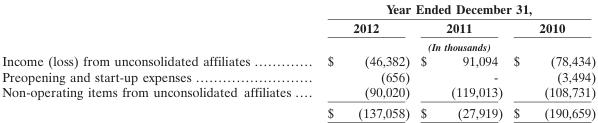table: (1, 1, 595, 120)
table column: (1, 1, 308, 120), (308, 1, 414, 120), (414, 1, 507, 120), (507, 1, 595, 120)
table column header: (1, 1, 595, 52)
table row: (1, 17, 595, 37), (1, 101, 595, 120), (1, 83, 595, 101), (1, 1, 595, 17), (1, 52, 595, 68), (1, 37, 595, 52), (1, 68, 595, 83)
table spanning cell: (308, 1, 595, 17), (308, 37, 595, 52)
